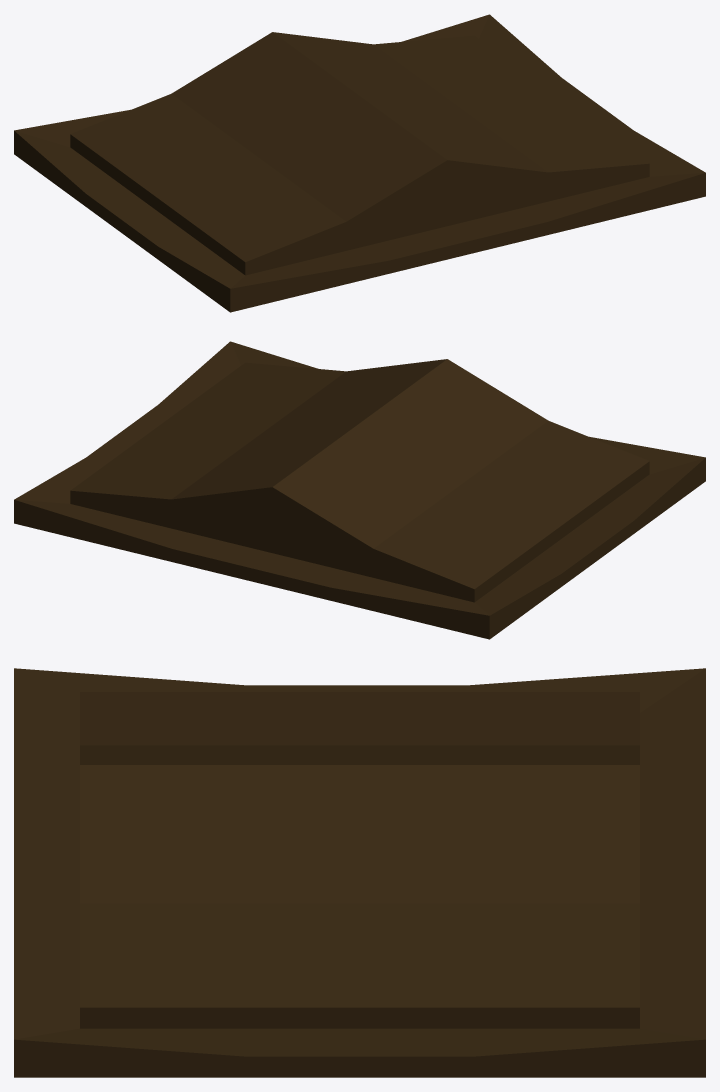
File: roofbase.fbx
3 views of the same model, one above another, from view 1: azimuth 30°, elevation 25°; view 2: azimuth 150°, elevation 25°; view 3: azimuth 270°, elevation 25° (orthographic). The views are drawn at different scales.
Parts seen in each view (by area): view 1: Cube; view 2: Cube; view 3: Cube.
Boxes of the visible parts, <box> form: Cube: <box>14,14,705,312</box>; Cube: <box>14,341,705,639</box>; Cube: <box>14,668,705,1077</box>.
Size of the model in its own units: 941 by 150 by 741.
